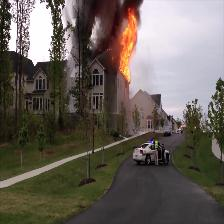fire: (120, 15, 135, 81)
smoke: (77, 1, 117, 43), (123, 1, 142, 9)
